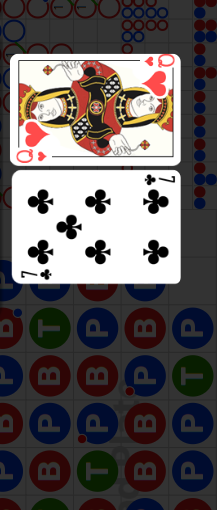7C: (142, 173, 176, 188)
